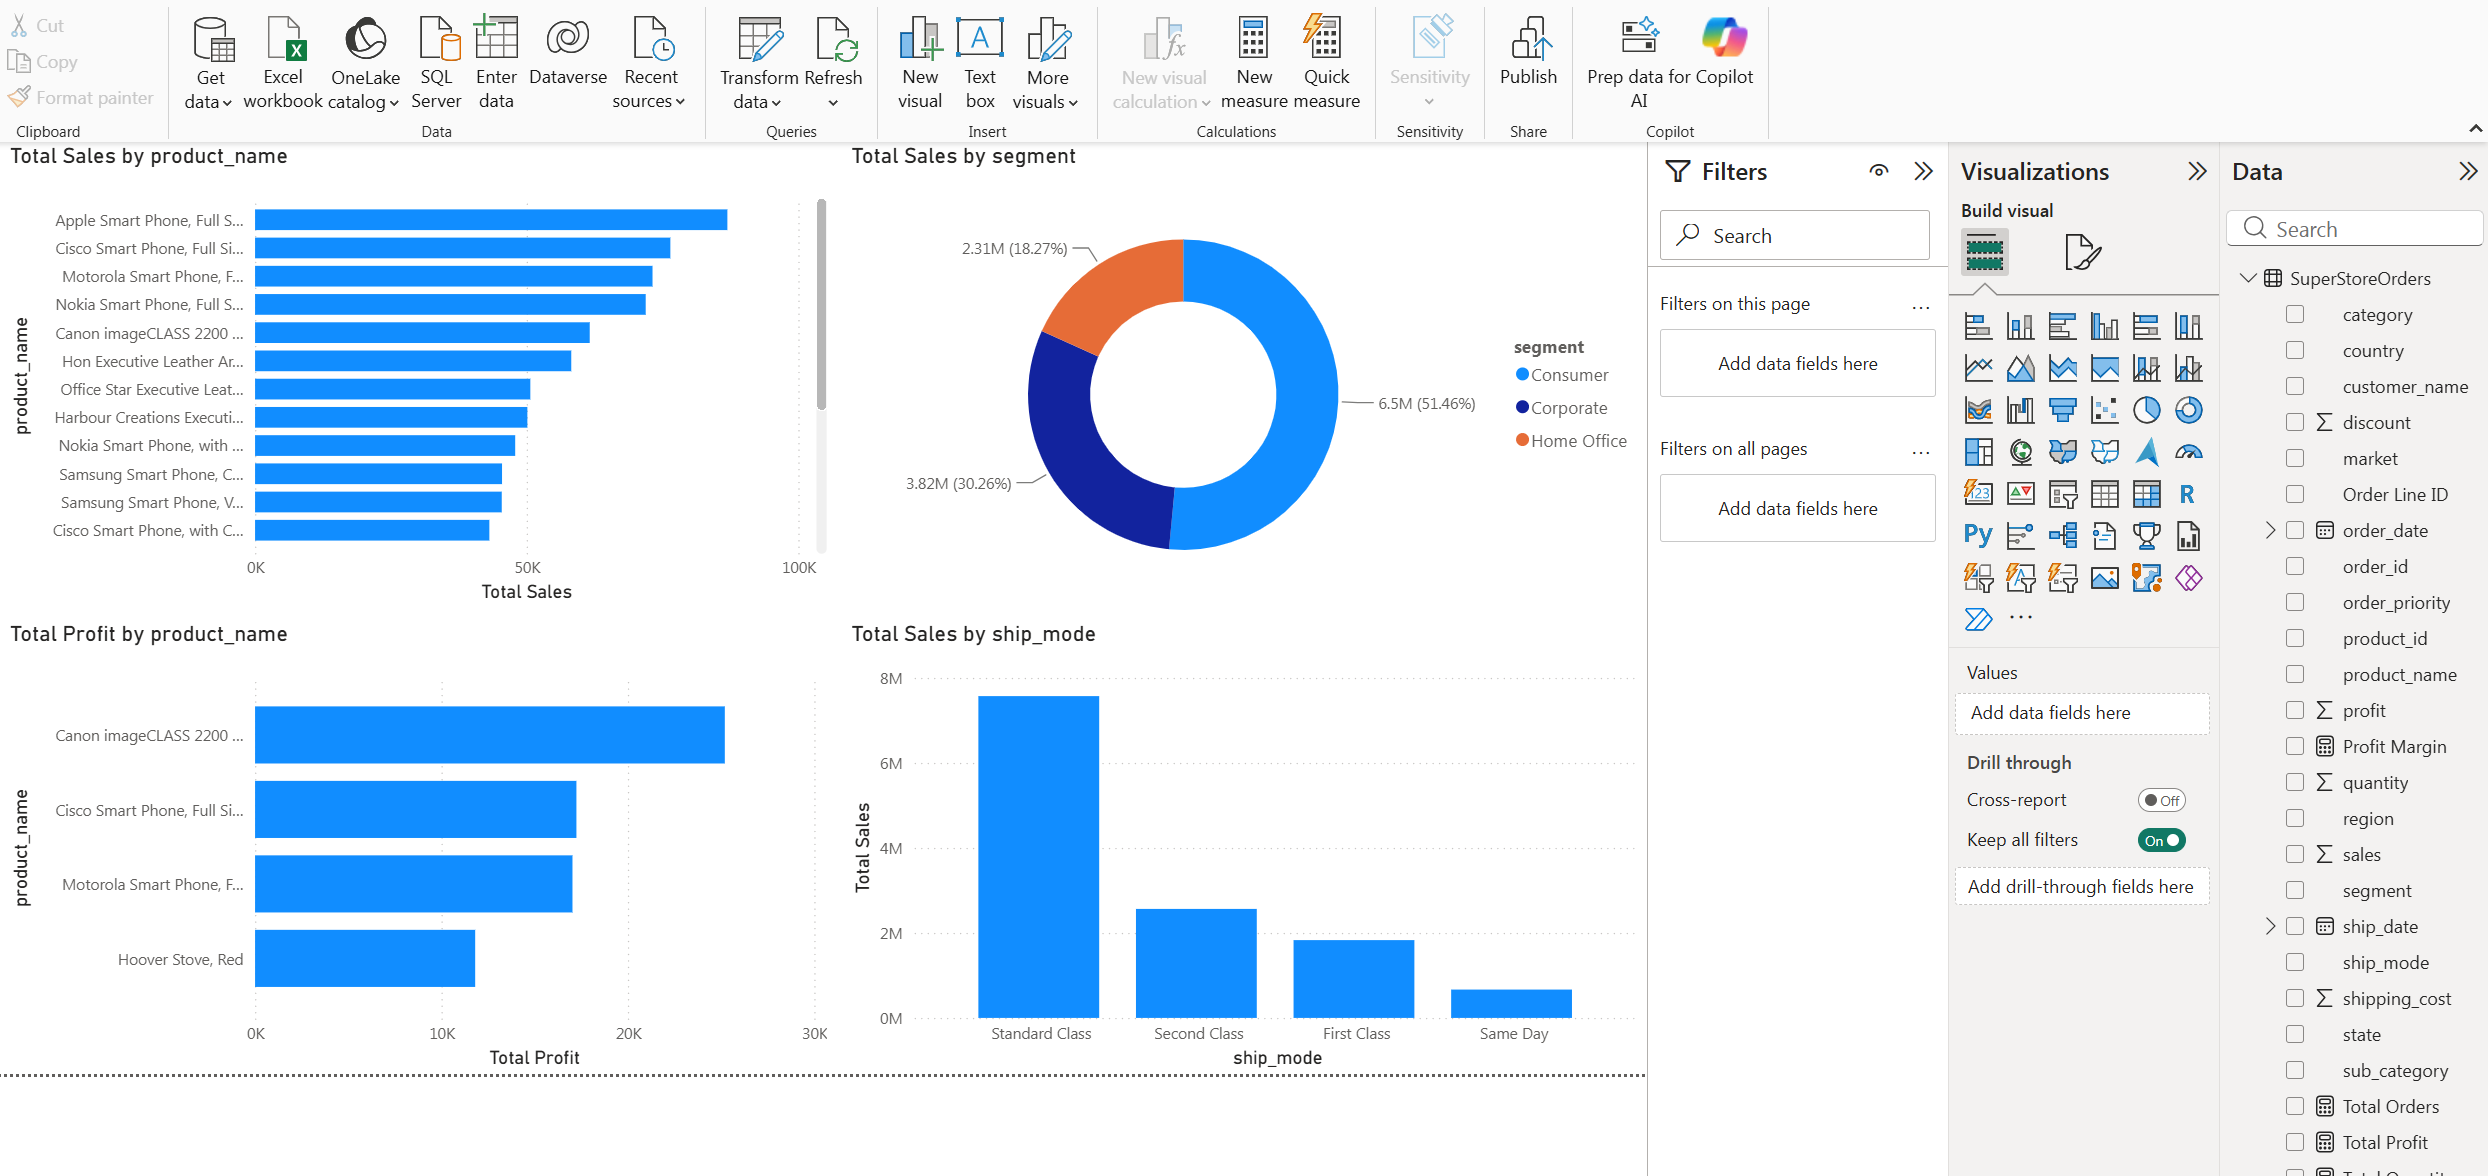

The page's visual inventory and layout, read from the dashboard file:
{"tool":"powerbi","page":{"name":"Product & Customer Analysis","canvas":[1280,720],"ordinal":2},"visuals":[{"type":"clusteredBarChart","fields":{"Category":["SuperStoreOrders.product_name"],"Y":["SuperStoreOrders.Total Sales"]},"box":[10.1,0,640.7,360.1],"z":0},{"type":"clusteredBarChart","fields":{"Category":["SuperStoreOrders.product_name"],"Y":["SuperStoreOrders.Total Profit"]},"box":[10,370,641,350],"z":1},{"type":"donutChart","fields":{"Category":["SuperStoreOrders.segment"],"Y":["SuperStoreOrders.Total Sales"]},"box":[661,0,619,360],"z":2},{"type":"clusteredColumnChart","fields":{"Category":["SuperStoreOrders.ship_mode"],"Y":["SuperStoreOrders.Total Sales"]},"box":[661,370,619,350],"z":3}]}

Visuals, with their boxes on the page's 1280x720 design canvas (x1, y1, x2, y2). These are canvas units, not pixel positions in the 2488x1176 screenshot, which may show the page scaled, cropped or inside an application window:
clusteredBarChart - SuperStoreOrders.product_name x SuperStoreOrders.Total Sales: {"x1": 10, "y1": 0, "x2": 651, "y2": 360}
clusteredBarChart - SuperStoreOrders.product_name x SuperStoreOrders.Total Profit: {"x1": 10, "y1": 370, "x2": 651, "y2": 720}
donutChart - SuperStoreOrders.segment x SuperStoreOrders.Total Sales: {"x1": 661, "y1": 0, "x2": 1280, "y2": 360}
clusteredColumnChart - SuperStoreOrders.ship_mode x SuperStoreOrders.Total Sales: {"x1": 661, "y1": 370, "x2": 1280, "y2": 720}
